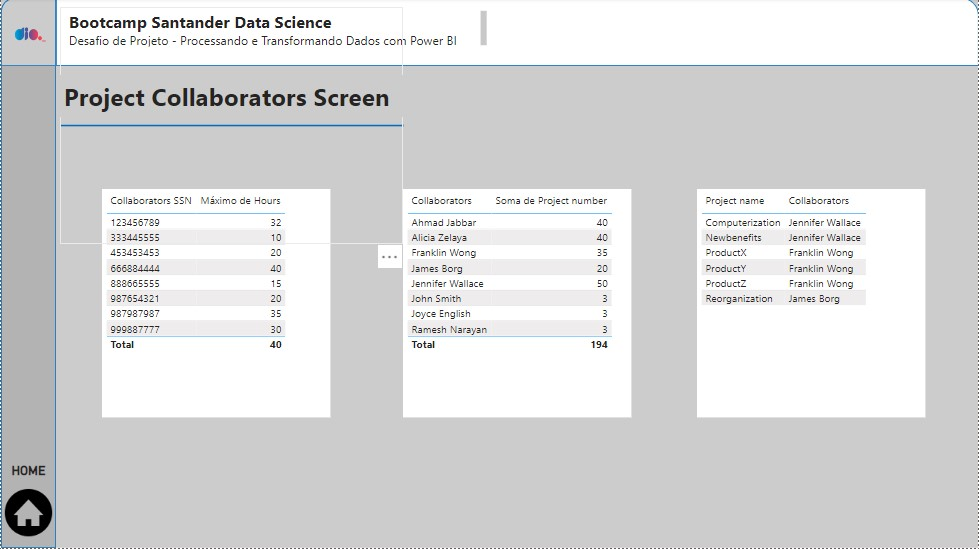

What the dashboard file says about the page in this screenshot:
{"tool":"powerbi","page":{"name":"Página 2","canvas":[1280,720],"ordinal":1},"visuals":[{"type":"shape","box":[0,0,1280,719.7],"z":0},{"type":"shape","box":[0,0,72.1,719.7],"z":1},{"type":"shape","box":[0,0,72.1,88.9],"z":2},{"type":"shape","box":[72.1,0,1207.9,88.9],"z":3},{"type":"image","box":[0,0,72.1,92.3],"z":4},{"type":"textbox","box":[83.9,11.7,557,57],"z":5},{"type":"tableEx","fields":{"Values":["azure_company employee.Collaborators","azure_company works_on.Project number"]},"box":[526.8,250,298.6,298.6],"z":7},{"type":"tableEx","fields":{"Values":["azure_company works_on.Collaborators SSN","azure_company works_on.Hours"]},"box":[152.7,250,298.6,298.6],"z":8},{"type":"tableEx","fields":{"Values":["azure_company project.Project name","azure_company employee.Collaborators"]},"box":[899.2,250,298.6,298.6],"z":9},{"type":"shape","box":[77.2,100.7,449.6,114.1],"z":10},{"type":"textbox","box":[77.2,100.7,449.6,55.4],"z":11},{"type":"image","title":"HOME","box":[0,609,72.1,110.7],"z":12}]}

Visuals, with their boxes on the page's 1280x720 design canvas (x1, y1, x2, y2). These are canvas units, not pixel positions in the 979x549 screenshot, which may show the page scaled, cropped or inside an application window:
shape: select_region(0, 0, 1280, 720)
shape: select_region(0, 0, 72, 720)
shape: select_region(0, 0, 72, 89)
shape: select_region(72, 0, 1280, 89)
image: select_region(0, 0, 72, 92)
textbox: select_region(84, 12, 641, 69)
tableEx - azure_company employee.Collaborators x azure_company works_on.Project number: select_region(527, 250, 825, 549)
tableEx - azure_company works_on.Collaborators SSN x azure_company works_on.Hours: select_region(153, 250, 451, 549)
tableEx - azure_company project.Project name x azure_company employee.Collaborators: select_region(899, 250, 1198, 549)
shape: select_region(77, 101, 527, 215)
textbox: select_region(77, 101, 527, 156)
"HOME" image: select_region(0, 609, 72, 720)
